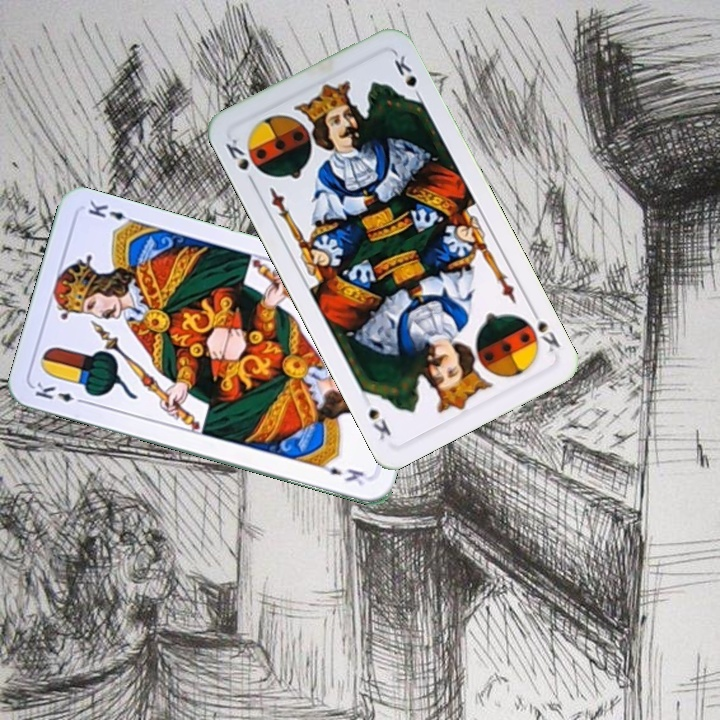EK: (31, 378, 89, 406)
SK: (518, 303, 563, 355), (221, 134, 258, 189)
